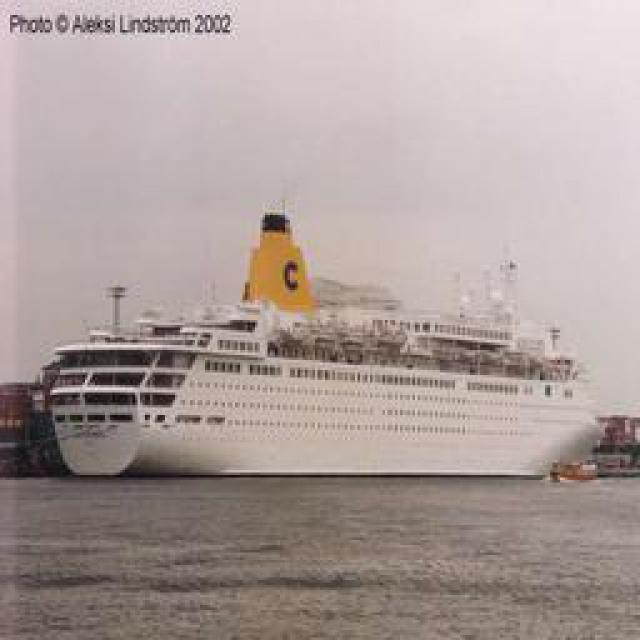Ship: (24, 278, 624, 483)
